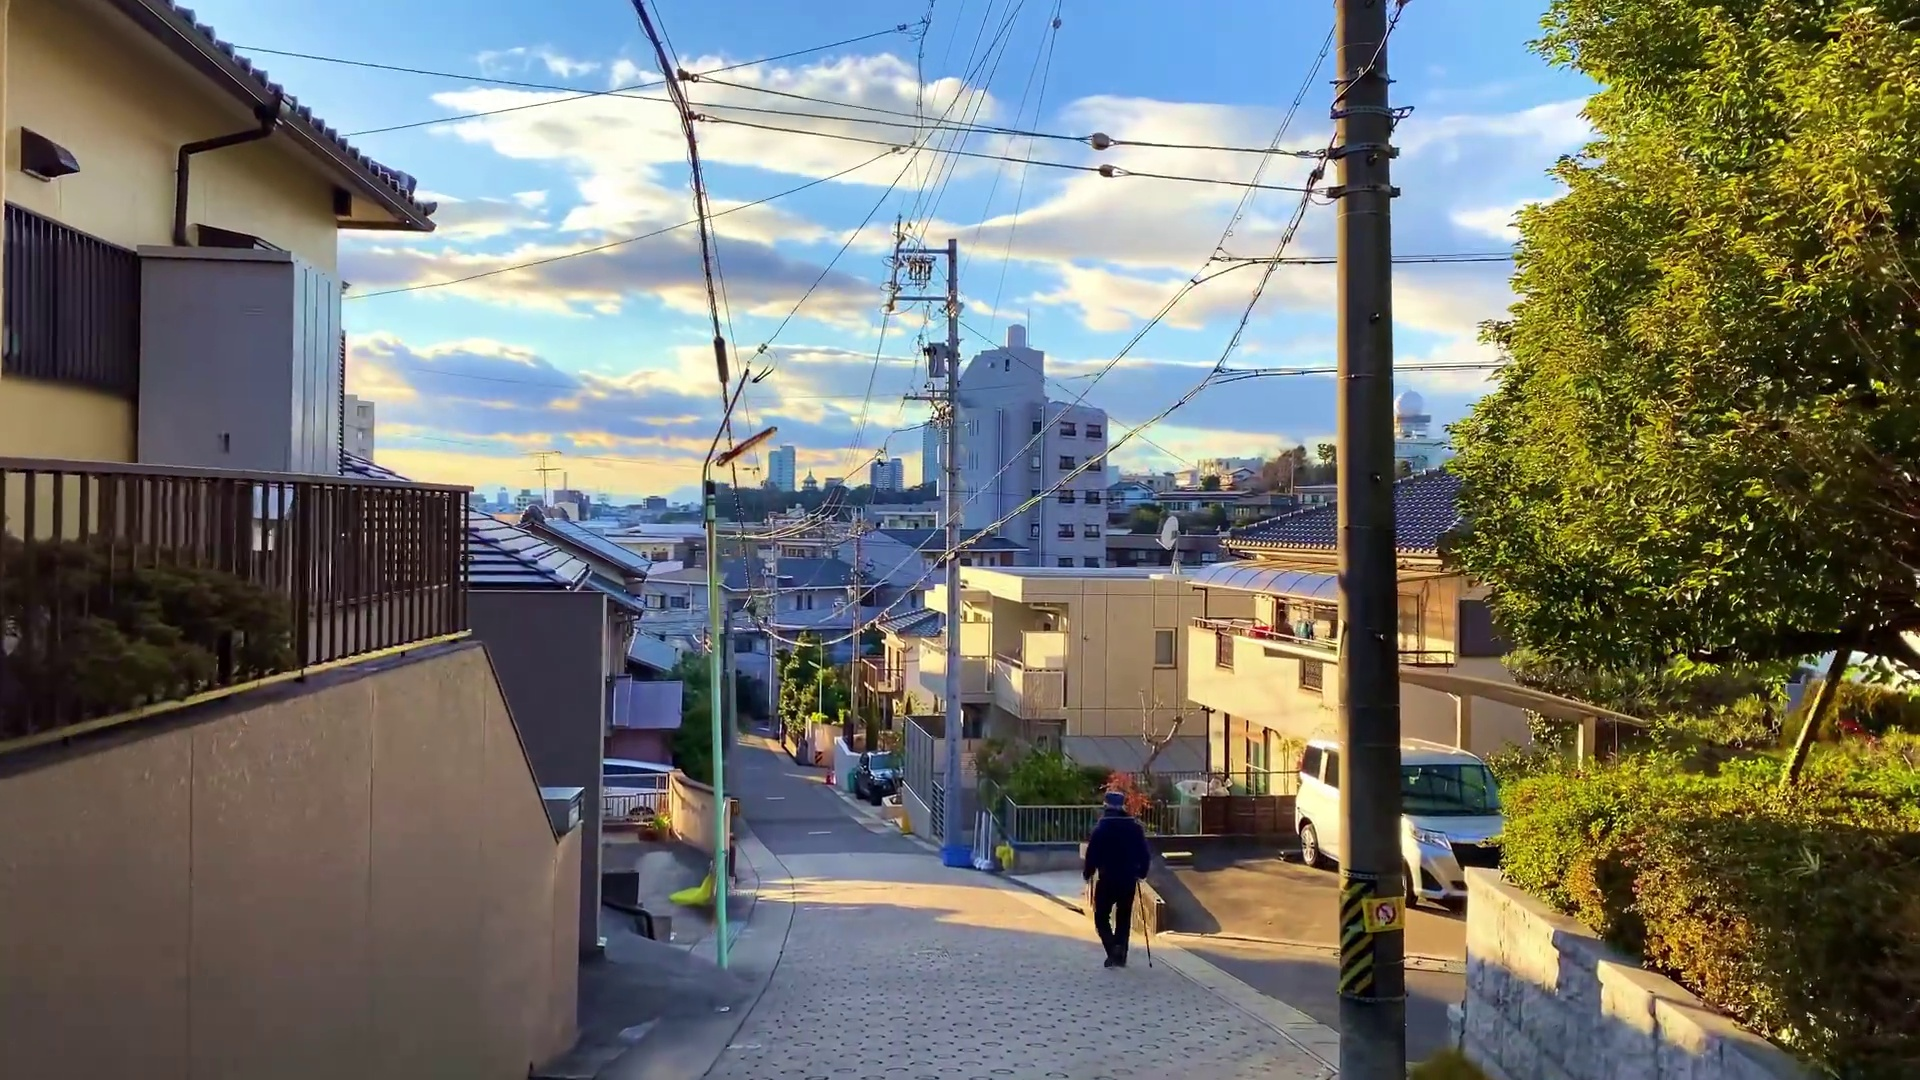person: (1082, 790, 1154, 972)
